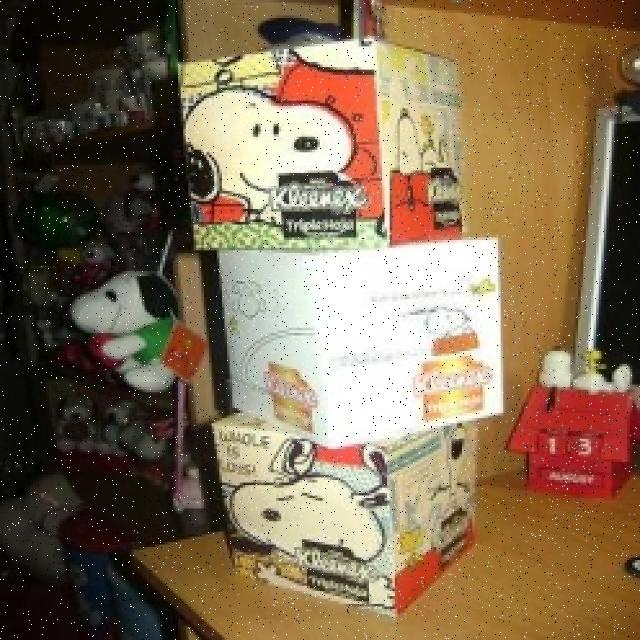box: (176, 33, 473, 250), (213, 234, 511, 428), (211, 406, 493, 606)
